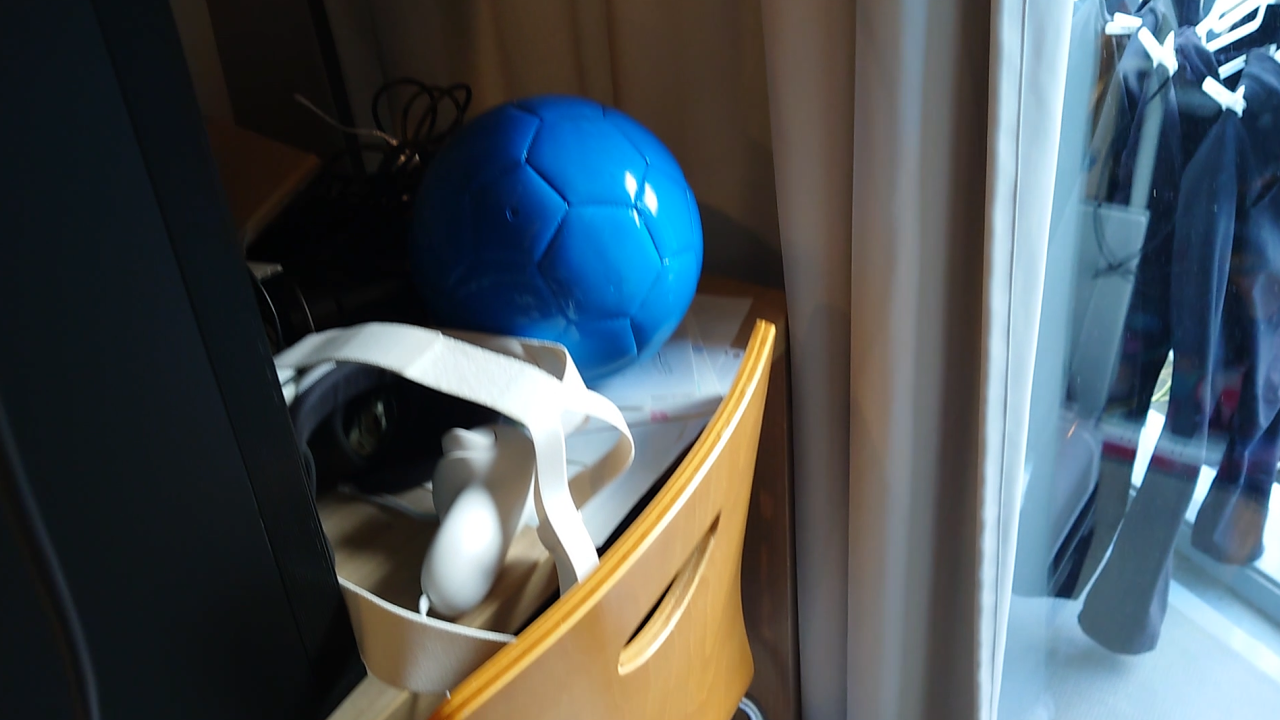blue: (406, 106, 704, 389)
